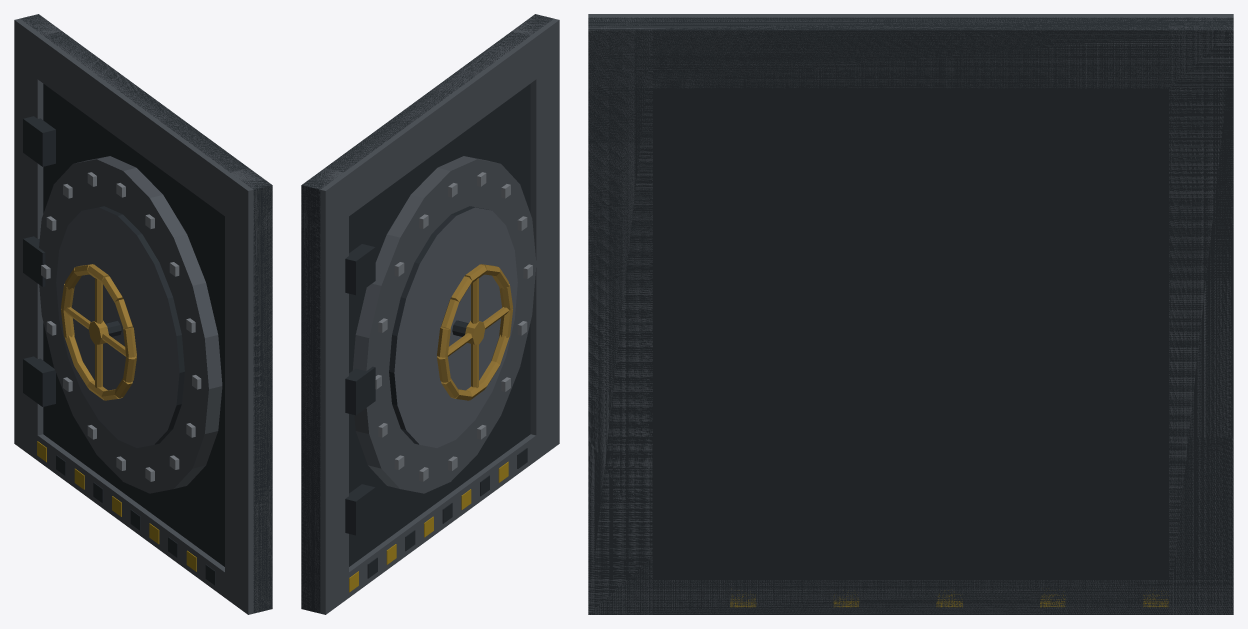
The model's file is bunker-vault.glb.
3 renders of one model, left to right at view 1: azimuth 30°, elevation 25°; view 2: azimuth 150°, elevation 25°; view 3: azimuth 270°, elevation 25°, orthographic. The views are drawn at different scales.
Visible parts, largest first — view 1: bunker-vault; view 2: bunker-vault; view 3: bunker-vault.
Part boxes in pixels (bbox=[...]): bunker-vault: bbox=[14, 14, 272, 614]; bunker-vault: bbox=[301, 14, 559, 614]; bunker-vault: bbox=[588, 14, 1233, 614].
Bounding box in the file's own units: 0.455 × 3 × 3.
